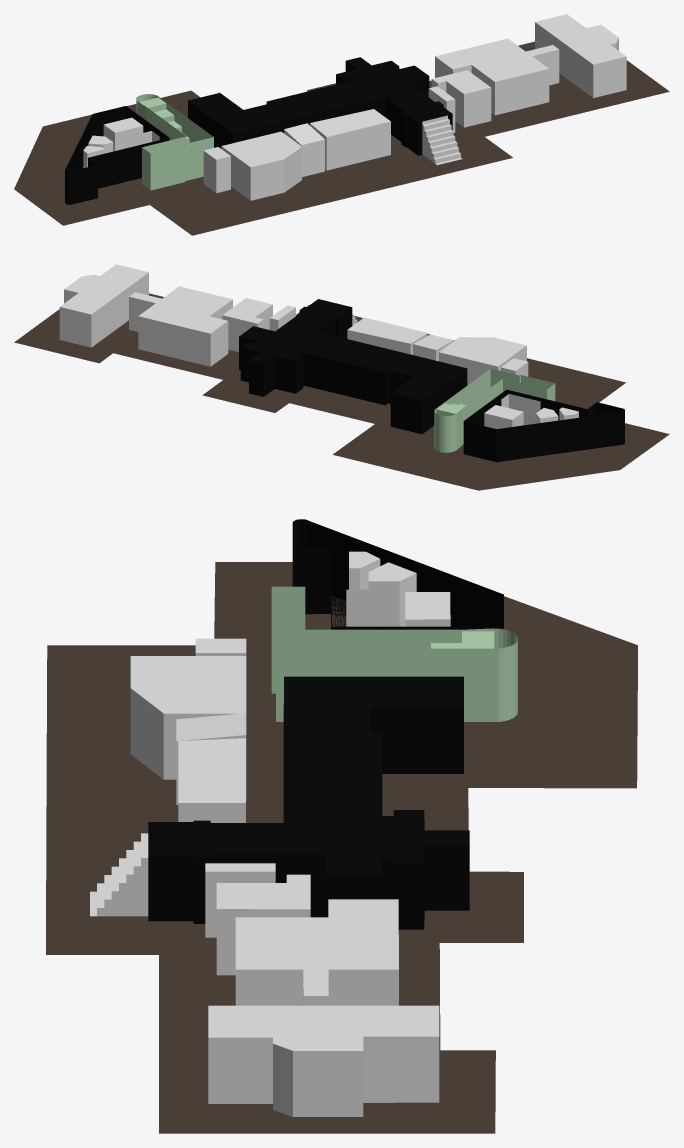
The model's file is basement.glb.
3 views of the same model, one above another, from view 1: azimuth 30°, elevation 25°; view 2: azimuth 150°, elevation 25°; view 3: azimuth 270°, elevation 25° (orthographic). The views are drawn at different scales.
Parts seen in each view (by area): view 1: Disc, ground, OFORTOD, CEAPMO, Traingle, Stairs, GSO, BA, COUNCILOR, Cube.001, C_AUDITORS_O, PWD (+4 smaller); view 2: Disc, ground, Traingle, OFORTOD, CEAPMO, Stairs, GSO, BA, COUNCILOR, DAYCARE, SPORTS, C_AUDITORS_O (+2 smaller); view 3: Disc, ground, CEAPMO, OFORTOD, Stairs, GSO, Traingle, BA, COUNCILOR, Cube.001, Lounge, PR (+5 smaller).
Boxes of the visible parts, x1,y1,x2,y2 form: Disc: (14,41,669,235); ground: (188,57,452,155); OFORTOD: (435,38,559,115); CEAPMO: (535,14,626,97); Traingle: (65,106,169,204); Stairs: (136,94,213,190); GSO: (221,131,301,200); BA: (309,109,390,170); COUNCILOR: (431,70,491,127); Cube.001: (422,115,462,165); C_AUDITORS_O: (284,123,324,176); PWD: (203,147,230,193); Disc: (14,293,669,490); ground: (239,299,467,434); Traingle: (463,389,624,462); OFORTOD: (129,286,232,366); CEAPMO: (59,264,148,347); Stairs: (434,368,555,452); GSO: (439,337,526,385); BA: (347,317,427,354); COUNCILOR: (222,298,272,352); DAYCARE: (484,405,523,428); SPORTS: (501,394,540,425); C_AUDITORS_O: (413,334,453,361); Disc: (46,562,637,1133); ground: (148,676,469,929); CEAPMO: (208,1005,439,1116); OFORTOD: (235,899,398,1005); Stairs: (271,586,517,721); GSO: (130,656,246,779); Traingle: (292,519,503,629); BA: (178,738,245,822); COUNCILOR: (216,874,310,975); Cube.001: (90,833,148,916); Lounge: (368,562,416,626); PR: (205,863,275,937).
Size of the model in its own units: 4.81 by 0.3155 by 2.1.
